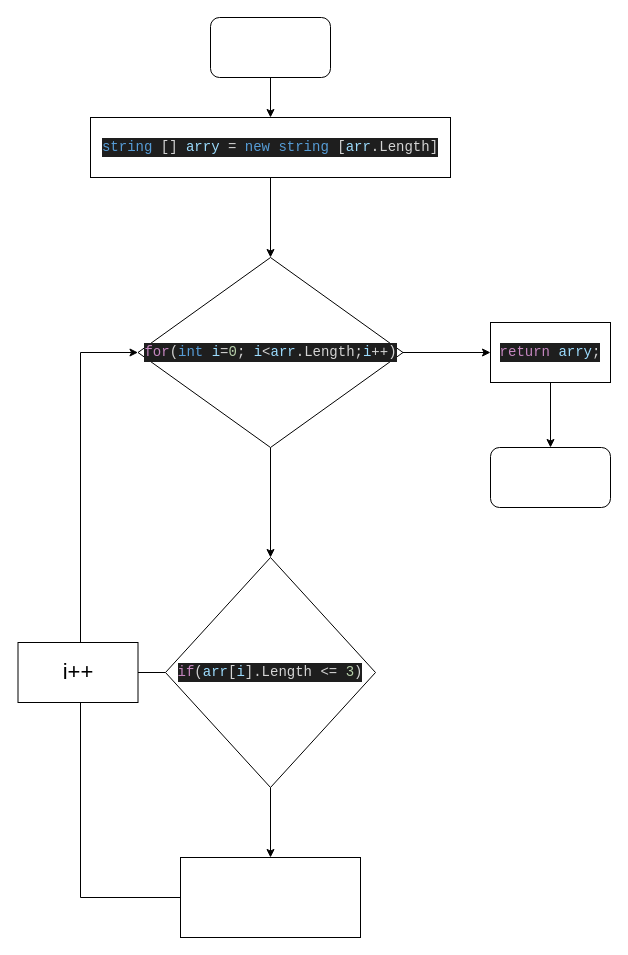
The diagram is 628 pixels wide and 955 high, and some of its shapes have lost their labels. Each missing label, with the box of its shape:
arry [ i ]= arr [ i ];: (180, 856, 360, 938)
Start(запускаем метод): (210, 16, 330, 78)
stop: (490, 446, 610, 508)
